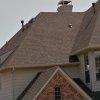Chimney: (51, 0, 76, 14)
